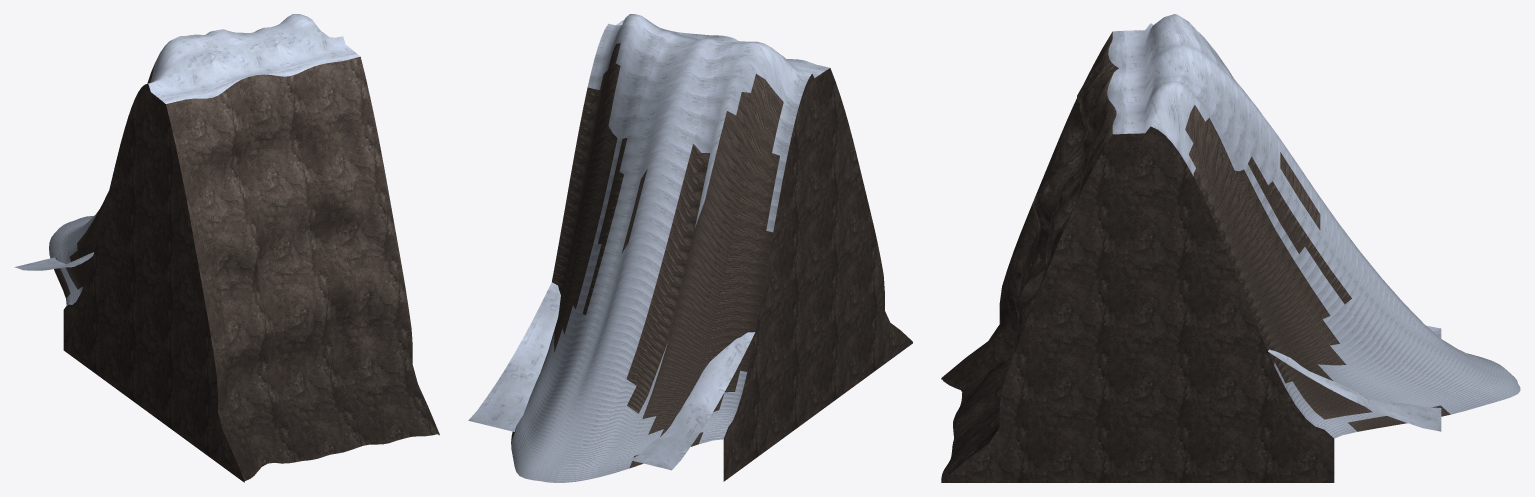
The model's file is seacliff_straight6c_h8_v5_winter.glb.
3 views of the same model, side by side, from view 1: azimuth 30°, elevation 25°; view 2: azimuth 150°, elevation 25°; view 3: azimuth 270°, elevation 25° (orthographic). The views are drawn at different scales.
Parts seen in each view (by area): view 1: seacliff_straight6c_h8; view 2: seacliff_straight6c_h8; view 3: seacliff_straight6c_h8.
Boxes of the visible parts, left/top/right/bottom form: seacliff_straight6c_h8: left=14, top=14, right=439, bottom=482; seacliff_straight6c_h8: left=468, top=14, right=912, bottom=482; seacliff_straight6c_h8: left=941, top=14, right=1520, bottom=482.
Size of the model in its own units: 6 by 10.47 by 14.23.
2 materials, 2 textured.
